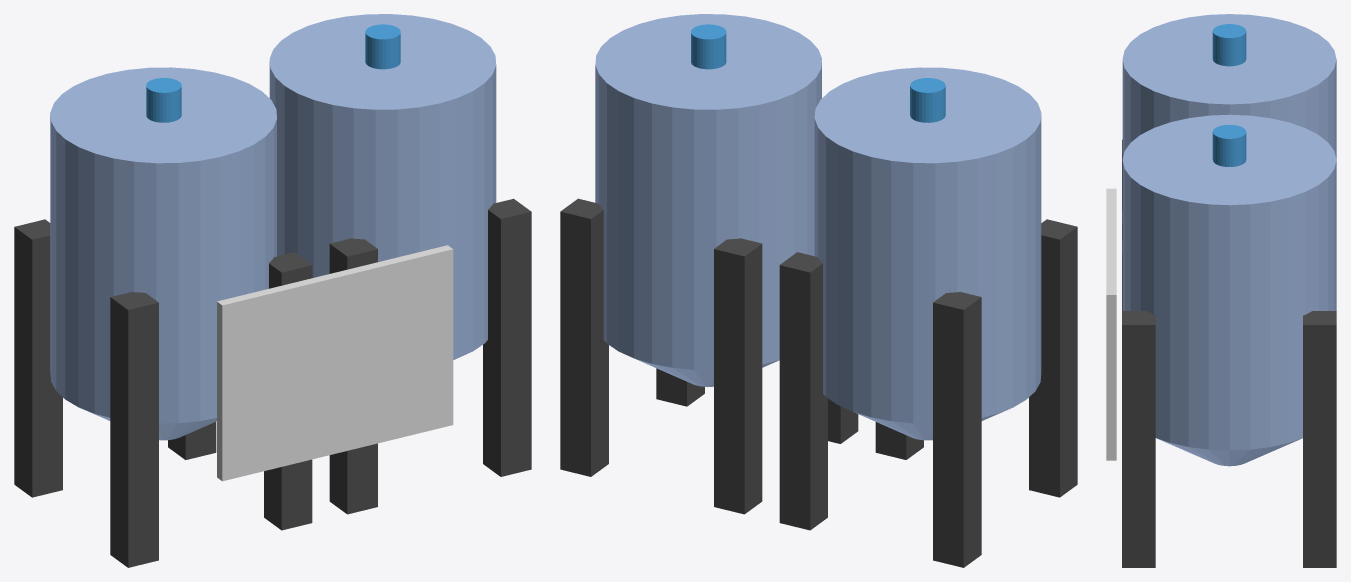
The model's file is dosing.glb.
3 views of the same model, side by side, from view 1: azimuth 30°, elevation 25°; view 2: azimuth 150°, elevation 25°; view 3: azimuth 270°, elevation 25° (orthographic). The views are drawn at different scales.
Parts seen in each view (by area): view 1: Cylinder, Cylinder.001, Cube.008, Cube.002, Cube.007, Cube, Cube.006, Cube.003, Cylinder.003, Cylinder.002, Cube.001; view 2: Cylinder, Cylinder.001, Cube, Cube.004, Cube.001, Cube.005, Cube.002, Cylinder.003, Cylinder.002, Cube.003, Cube.007, Cube.006; view 3: Cylinder.001, Cylinder, Cube.005, Cube.007, Cube.008, Cylinder.002, Cylinder.003.
Part boxes in pixels (x1,y1,x2,y2): Cylinder: (50,67,276,440); Cylinder.001: (269,14,496,359); Cube.008: (217,245,453,481); Cube.002: (110,292,158,567); Cube.007: (483,198,531,476); Cube: (14,219,62,497); Cube.006: (329,238,377,514); Cube.003: (264,252,312,530); Cylinder.003: (365,24,400,69); Cylinder.002: (146,78,181,122); Cube.001: (168,422,216,459); Cylinder: (814,67,1041,440); Cylinder.001: (595,14,821,386); Cube: (933,292,981,567); Cube.004: (714,238,762,514); Cube.001: (779,252,827,530); Cube.005: (560,198,608,476); Cube.002: (1029,219,1077,497); Cylinder.003: (691,24,726,69); Cylinder.002: (910,78,945,122); Cube.003: (875,422,923,459); Cube.007: (656,368,704,406); Cube.006: (828,398,858,443); Cylinder.001: (1122,114,1336,466); Cylinder: (1122,14,1336,159); Cube.005: (1303,311,1336,567); Cube.007: (1122,311,1155,567); Cube.008: (1106,188,1116,460); Cylinder.002: (1212,24,1246,66); Cylinder.003: (1212,124,1246,166).
Bounding box in the file's own units: 6.77 × 6.5 × 3.44.
